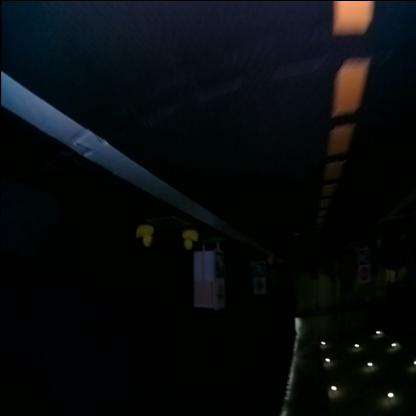Duckie: (182, 228, 198, 250), (138, 224, 154, 245), (268, 257, 274, 264)
Intersection sign: (214, 282, 224, 310), (254, 278, 264, 292)
QR code: (215, 253, 224, 277), (253, 263, 265, 277), (358, 252, 370, 263)
Stop sign: (358, 268, 368, 282)
